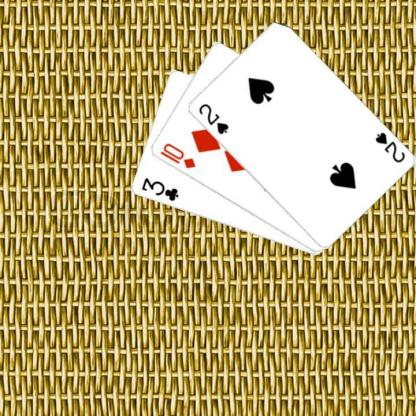10D: (157, 140, 197, 170)
2S: (195, 101, 230, 136), (372, 130, 406, 164)
3C: (138, 175, 180, 203)
